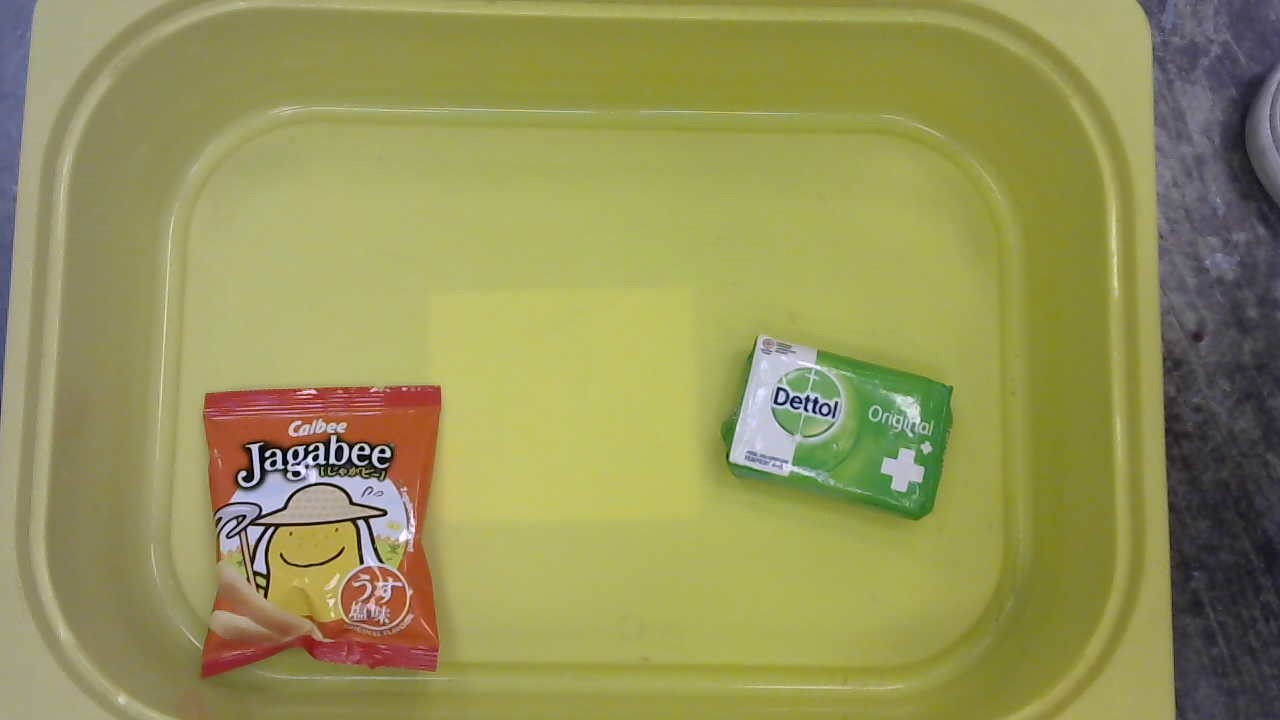Dettol: (717, 327, 962, 525)
JagabeeFarmer: (191, 384, 451, 685)
